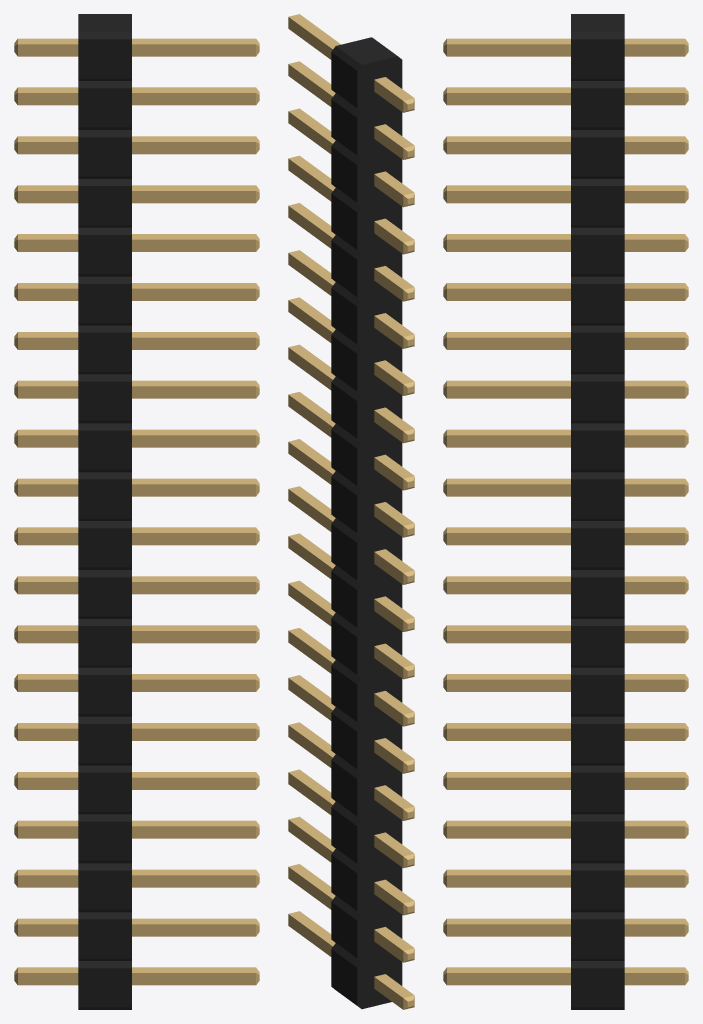
File: header-1x20.glb
The picture shows the model from 3 angles, left to right: view 1: azimuth 90°, elevation 25°; view 2: azimuth 210°, elevation 25°; view 3: azimuth 270°, elevation 25°; orthographic projection. The views are drawn at different scales.
Visible parts, largest first — view 1: PIN-02, IC-BODY-EPOXY-04; view 2: IC-BODY-EPOXY-04, PIN-02; view 3: PIN-02, IC-BODY-EPOXY-04.
Boxes of the visible parts, x1=… form: PIN-02: x1=14, y1=38, x2=259, y2=985; IC-BODY-EPOXY-04: x1=78, y1=14, x2=131, y2=1009; IC-BODY-EPOXY-04: x1=331, y1=37, x2=402, y2=1009; PIN-02: x1=288, y1=14, x2=414, y2=1009; PIN-02: x1=443, y1=38, x2=688, y2=985; IC-BODY-EPOXY-04: x1=571, y1=14, x2=624, y2=1009.
Size of the model in its own units: 2.54 by 50.8 by 11.54.
